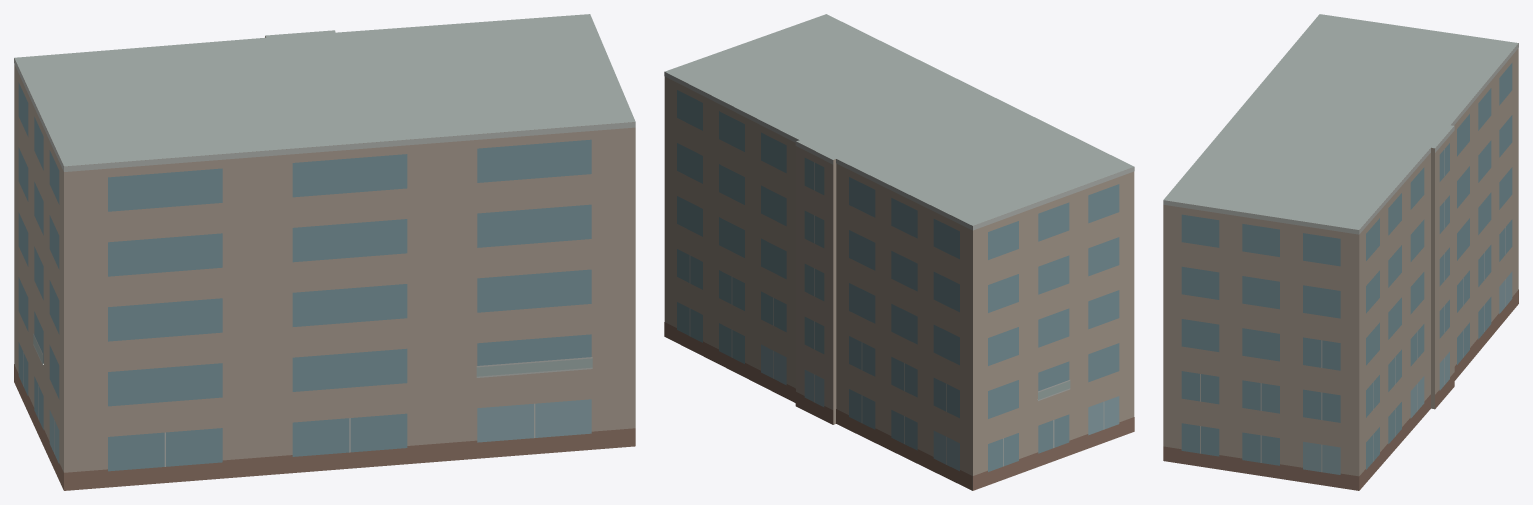
File: survey-upis-32713094.glb
3 views of the same model, side by side, from view 1: azimuth 30°, elevation 25°; view 2: azimuth 150°, elevation 25°; view 3: azimuth 270°, elevation 25° (orthographic). The views are drawn at different scales.
Parts seen in each view (by area): view 1: survey-upis-32713094.tmp; view 2: survey-upis-32713094.tmp; view 3: survey-upis-32713094.tmp.
Part boxes in pixels (x1,y1,x2,y2): survey-upis-32713094.tmp: [14, 14, 635, 490]; survey-upis-32713094.tmp: [664, 14, 1134, 490]; survey-upis-32713094.tmp: [1163, 14, 1518, 490].
Size of the model in its own units: 24.74 by 13.92 by 17.2.
